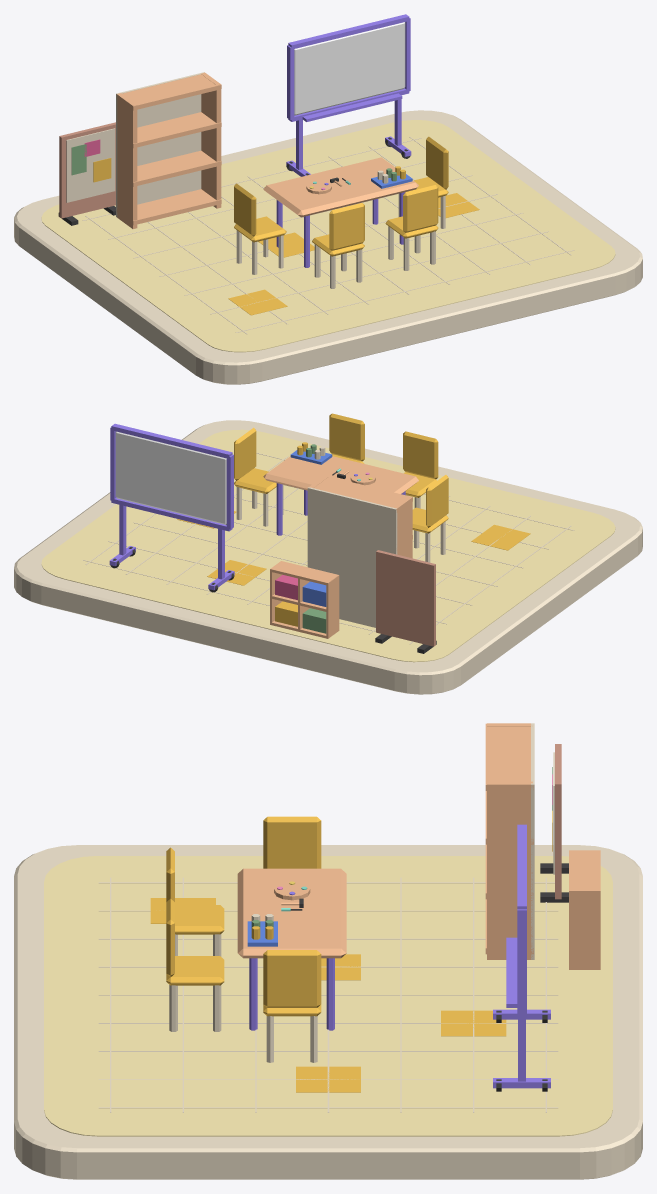
Rendered from room.fbx.
The picture shows the model from 3 angles, top to bottom: view 1: azimuth 30°, elevation 25°; view 2: azimuth 150°, elevation 25°; view 3: azimuth 270°, elevation 25°; orthographic projection. The views are drawn at different scales.
Visible parts, largest first — view 1: COM-02 Floor Surface, COM-01 Rounded Base Direct, Writing surface, Rounded table top, Back, Side, Canvas, Side.001, Panel, Shelf.003, Shelf, Shelf.001 (+12 smaller); view 2: COM-02 Floor Surface, COM-01 Rounded Base Direct, Back, Writing surface, Panel, Rounded table top, Backrest.002, Backrest.003, Shelf.003, Frame rail.001, Backrest, Backrest.001 (+15 smaller); view 3: COM-02 Floor Surface, COM-01 Rounded Base Direct, Rounded table top, Side.001, Backrest.001, Backrest, Shelf.003, Cubbies divider.002, Geometric color tile.003, Geometric color tile.002, Seat.003, Seat.002 (+12 smaller).
Part boxes in pixels (<box>): COM-02 Floor Surface: <box>41,120,615,352</box>; COM-01 Rounded Base Direct: <box>14,110,642,384</box>; Writing surface: <box>294,22,405,115</box>; Rounded table top: <box>263,157,418,217</box>; Back: <box>116,72,204,217</box>; Side: <box>117,93,137,228</box>; Canvas: <box>66,128,115,202</box>; Side.001: <box>201,72,221,208</box>; Panel: <box>59,122,115,218</box>; Shelf.003: <box>117,74,221,110</box>; Shelf: <box>116,189,221,225</box>; Shelf.001: <box>117,150,221,186</box>; COM-02 Floor Surface: <box>41,429,615,662</box>; COM-01 Rounded Base Direct: <box>14,420,642,694</box>; Back: <box>307,487,397,627</box>; Writing surface: <box>115,431,226,524</box>; Panel: <box>376,550,435,646</box>; Rounded table top: <box>263,456,418,493</box>; Backrest.002: <box>403,431,438,479</box>; Backrest.003: <box>329,413,364,461</box>; Shelf.003: <box>314,475,412,512</box>; Frame rail.001: <box>111,423,232,458</box>; Backrest: <box>426,475,448,527</box>; Backrest.001: <box>234,427,256,480</box>; COM-02 Floor Surface: <box>44,856,612,1136</box>; COM-01 Rounded Base Direct: <box>14,845,642,1179</box>; Rounded table top: <box>237,868,346,958</box>; Side.001: <box>487,781,532,959</box>; Backrest.001: <box>263,950,321,1007</box>; Backrest: <box>263,816,321,868</box>; Shelf.003: <box>485,723,533,790</box>; Cubbies divider.002: <box>569,890,600,969</box>; Geometric color tile.003: <box>296,1066,360,1092</box>; Geometric color tile.002: <box>441,1010,506,1036</box>; Seat.003: <box>166,956,224,985</box>; Seat.002: <box>175,905,224,934</box>.
Bounding box in the file's own units: 600 × 204 × 520.
